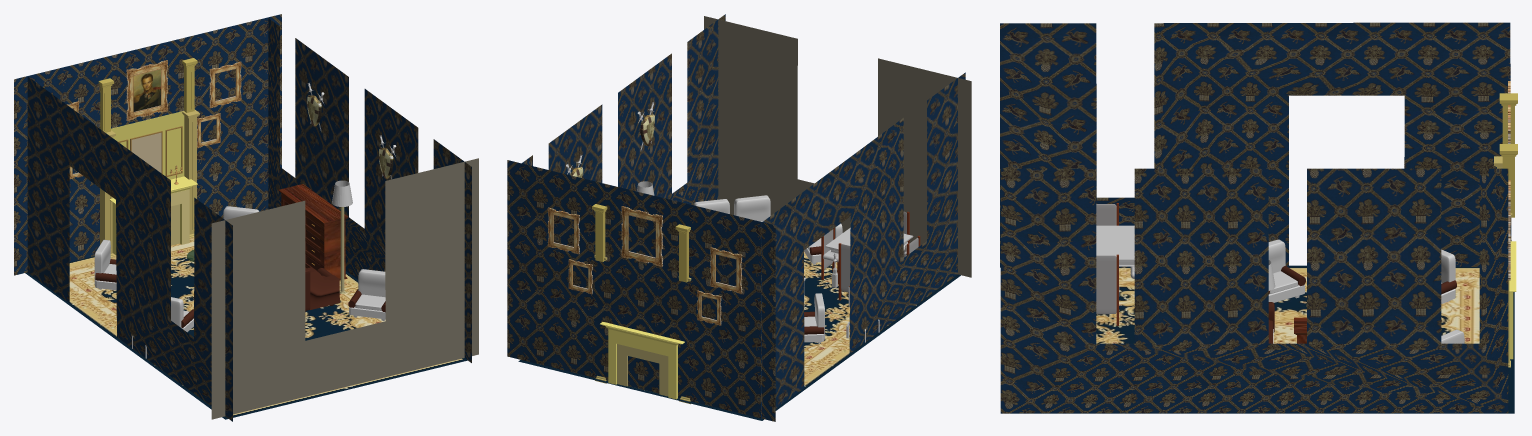
The model's file is familyroom_prep.fbx.
3 renders of one model, left to right at view 1: azimuth 30°, elevation 25°; view 2: azimuth 150°, elevation 25°; view 3: azimuth 270°, elevation 25°, orthographic. The views are drawn at different scales.
Visible parts, largest first — view 1: wall_paper, floor, wide_cabinet, photo_frame, Cube, fireplace_pillar, sofa_back, wide_sofa, fireplace_pillar_up, grandfather_phot, mirror, shield (+9 smaller); view 2: wall_paper, floor, photo_frame, fireplace_out, sofa_back, fireplace_pillar_up, fireplace_brick, chair_back, chair_leg, shield; view 3: wall_paper, floor, chair_back, tale_face, fireplace_pillar_up, sofa_back, fireplace_out, sofa_cushion.
Boxes of the visible parts, x1,y1,x2,y2 form: wall_paper: [14, 14, 478, 421]; floor: [25, 237, 467, 419]; wide_cabinet: [278, 184, 348, 280]; photo_frame: [67, 60, 241, 179]; Cube: [111, 111, 184, 179]; fireplace_pillar: [100, 109, 199, 257]; sofa_back: [94, 206, 385, 327]; wide_sofa: [305, 267, 339, 310]; fireplace_pillar_up: [98, 58, 197, 132]; grandfather_phot: [133, 69, 160, 111]; mirror: [131, 132, 161, 173]; shield: [307, 95, 393, 179]; wall_paper: [507, 14, 971, 421]; floor: [518, 252, 960, 420]; photo_frame: [547, 206, 742, 325]; fireplace_out: [600, 322, 684, 399]; sofa_back: [693, 195, 842, 340]; fireplace_pillar_up: [592, 204, 690, 282]; fireplace_brick: [617, 344, 668, 396]; chair_back: [824, 211, 918, 292]; chair_leg: [821, 211, 920, 300]; shield: [570, 114, 654, 178]; wall_paper: [1000, 22, 1511, 413]; floor: [1010, 265, 1514, 413]; chair_back: [1096, 204, 1116, 314]; tale_face: [1096, 225, 1134, 266]; fireplace_pillar_up: [1499, 93, 1517, 217]; sofa_back: [1268, 239, 1464, 343]; fireplace_out: [1509, 241, 1516, 359]; sofa_cushion: [1268, 284, 1455, 304].
Bounding box in the file's own units: 400 × 283 × 537.
